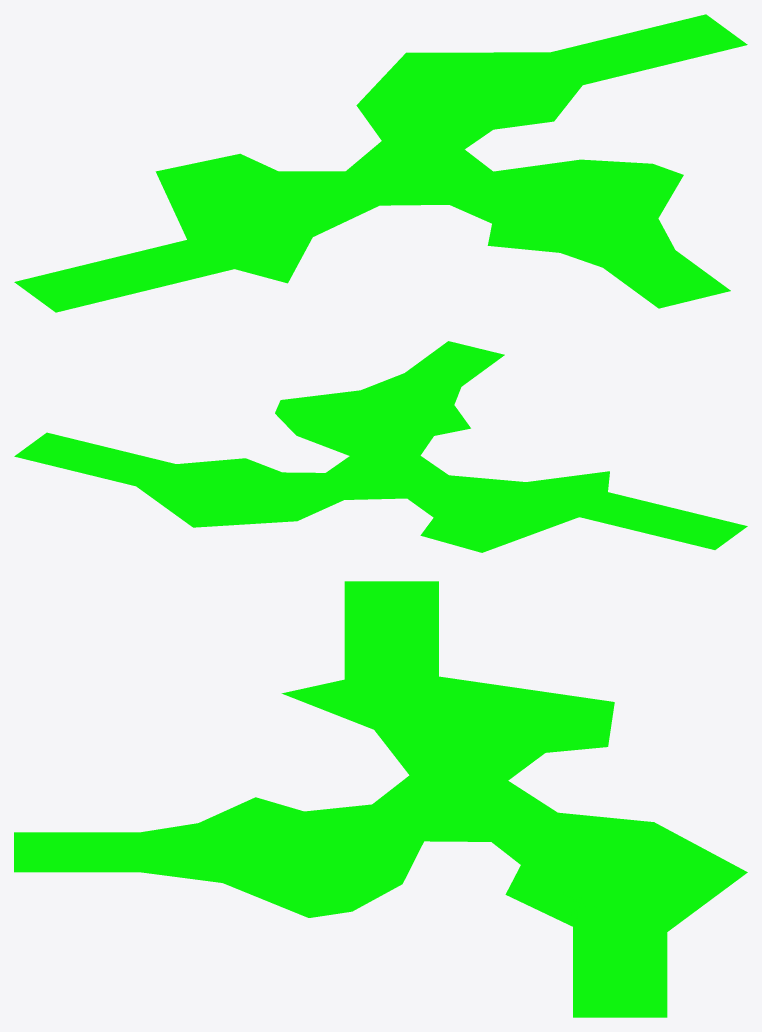
The model's file is s03b_td2-floor.glb.
3 renders of one model, top to bottom at view 1: azimuth 30°, elevation 25°; view 2: azimuth 150°, elevation 25°; view 3: azimuth 270°, elevation 25°, orthographic. The views are drawn at different scales.
Parts seen in each view (by area): view 1: collision_floor-colonly; view 2: collision_floor-colonly; view 3: collision_floor-colonly.
Boxes of the visible parts, x1,y1,x2,y2 form: collision_floor-colonly: (14,14,747,312); collision_floor-colonly: (14,341,747,552); collision_floor-colonly: (14,581,747,1017).
Size of the model in its own units: 65.61 by 0.00781 by 46.61.
